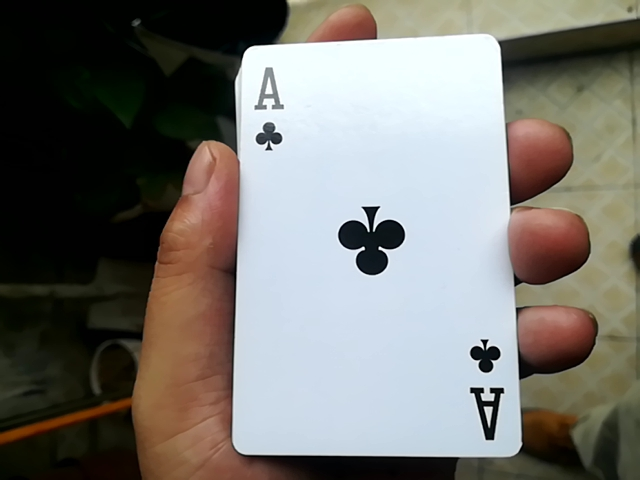mh a: (213, 30, 529, 460)
